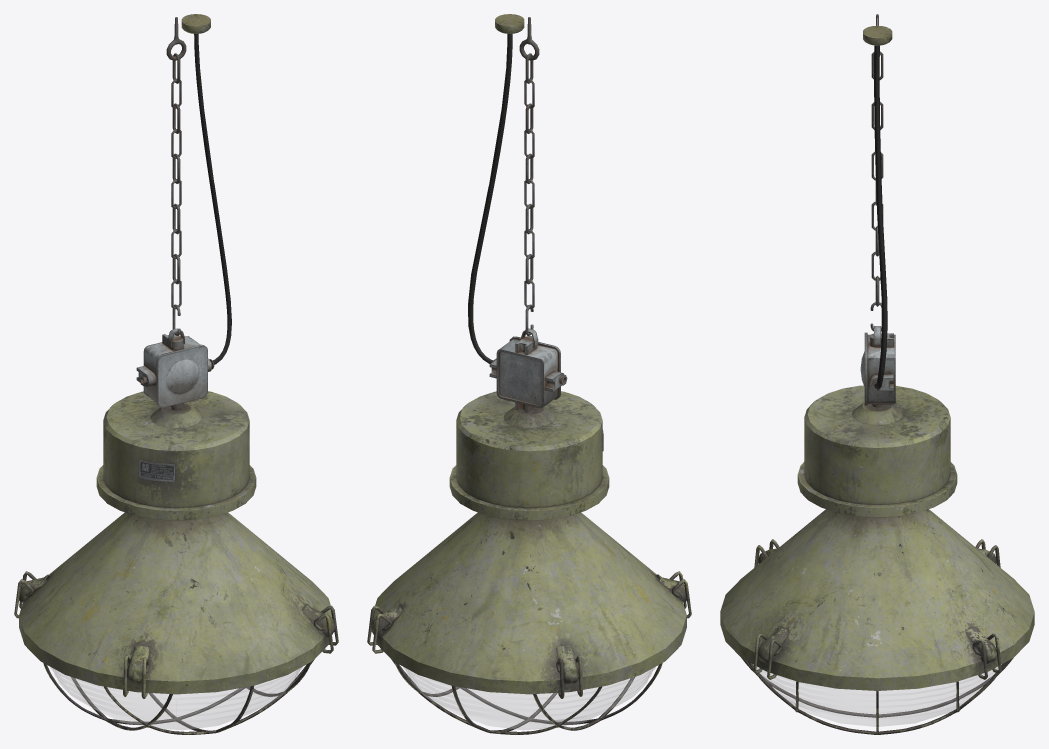
File: pendant_lamp.glb
The picture shows the model from 3 angles, left to right: view 1: azimuth 30°, elevation 25°; view 2: azimuth 150°, elevation 25°; view 3: azimuth 270°, elevation 25°; orthographic projection.
Visible parts, largest first — view 1: hanging_industrial_lamp; view 2: hanging_industrial_lamp; view 3: hanging_industrial_lamp.
Boxes of the visible parts, box(x1,y1,x2,y2) form: hanging_industrial_lamp: box(14, 14, 338, 734); hanging_industrial_lamp: box(367, 14, 691, 734); hanging_industrial_lamp: box(720, 14, 1034, 734).
Size of the model in its own units: 0.4339 by 1.07 by 0.4339.
2 materials, 1 textured.
